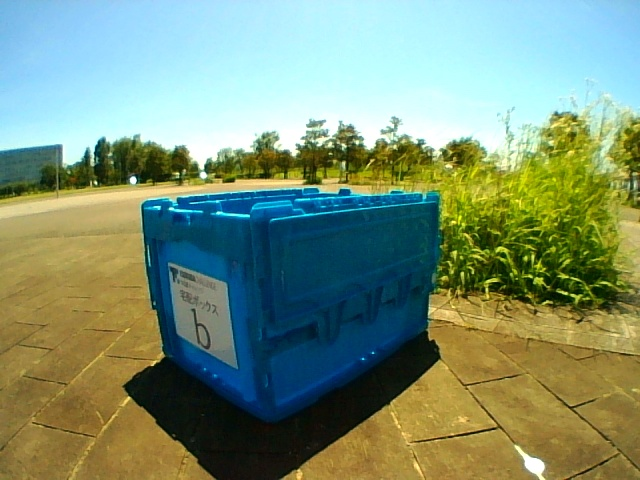blue_box: (162, 200, 432, 351)
tag_b: (188, 292, 212, 350)
